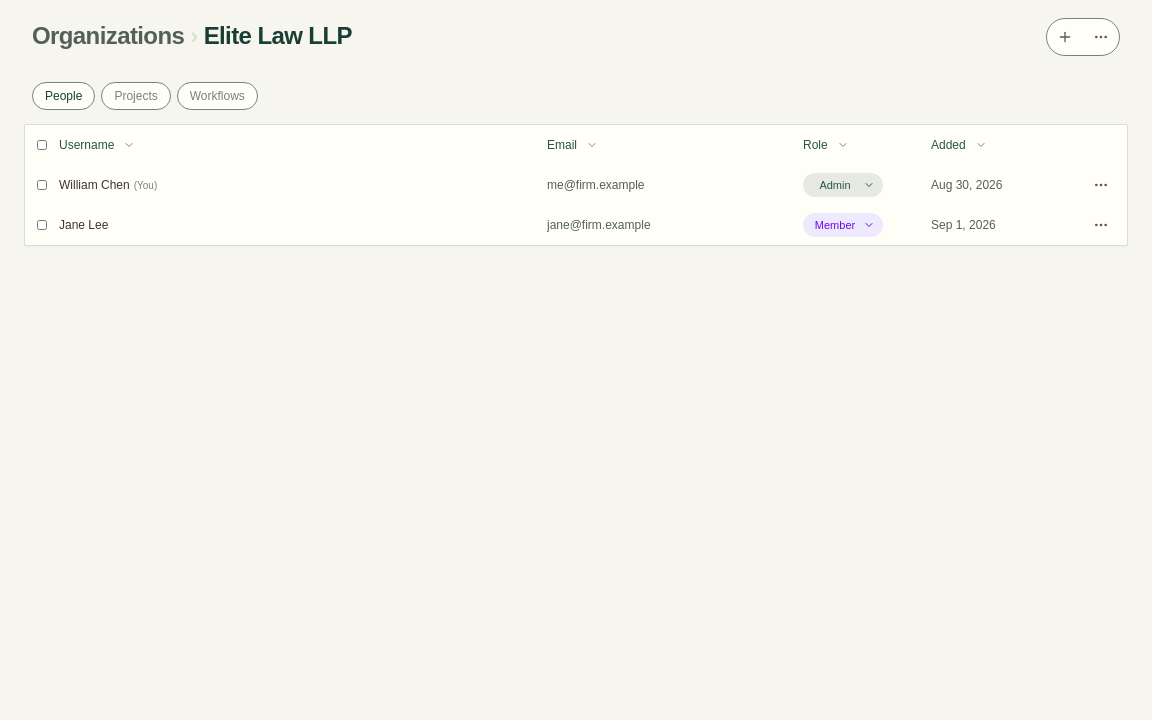
Test: OrganizationWorkspace › reveals a toolbar action and removes selected people
expect the text "Jane Lee" is shown: met, box [59,217,108,233]
expect the button "Actions" is not shown: met
Step 1. Click the checkbox named "Select Jane Lee" → [42, 225], box [37,220,47,230]
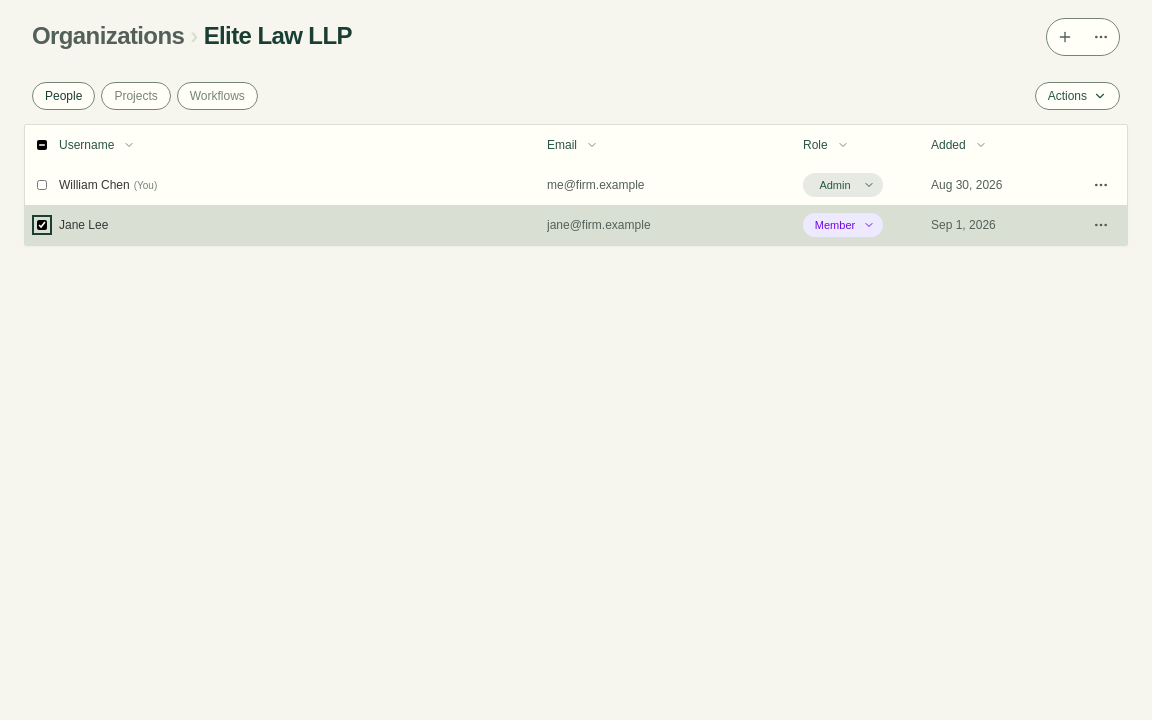
Step 2. Click the button "Actions" → [1077, 96], box [1035,82,1120,110]
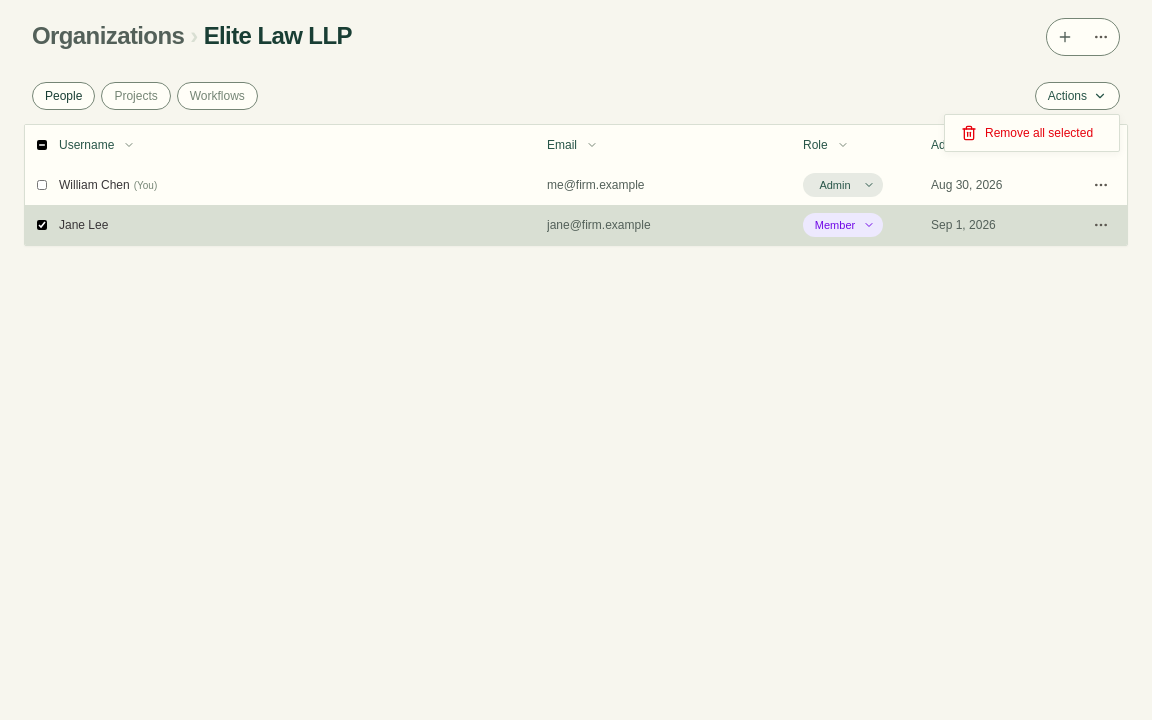
Step 3. Click the menu item "Remove all selected" → [1027, 133], box [961,125,1093,141]
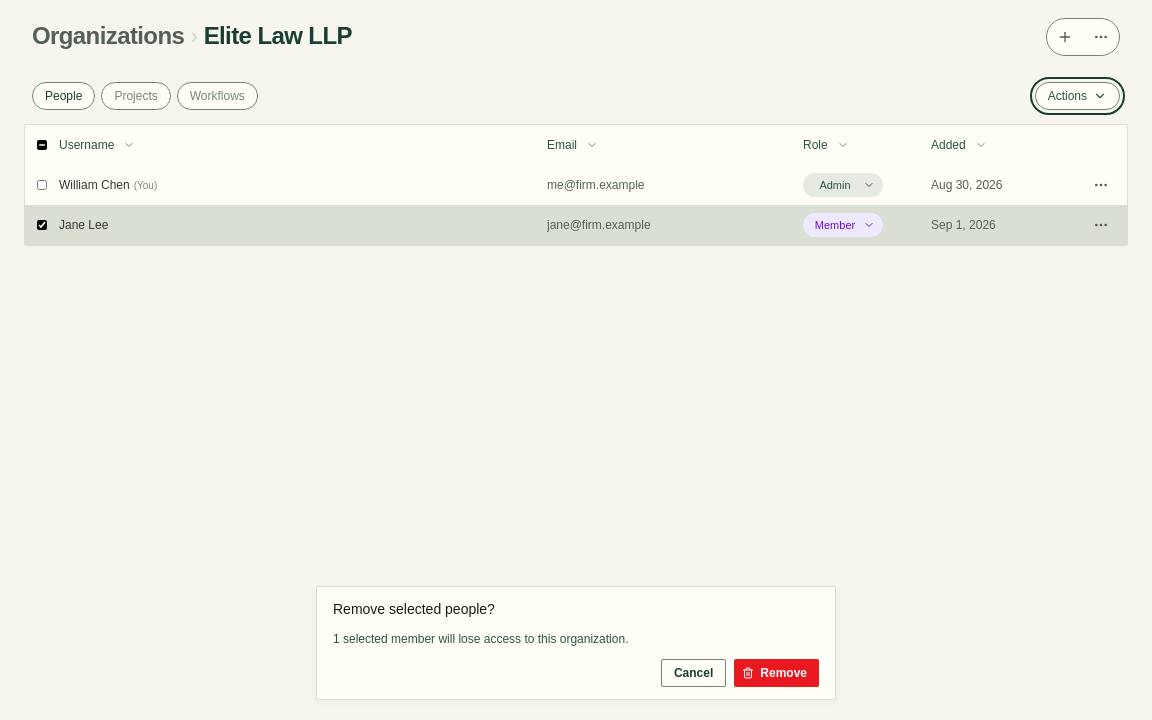
expect the text "Remove selected people?" is shown: met, box [333,601,495,617]
Step 4. Click the 2nd button named "Remove" → [777, 673], box [734,659,819,687]
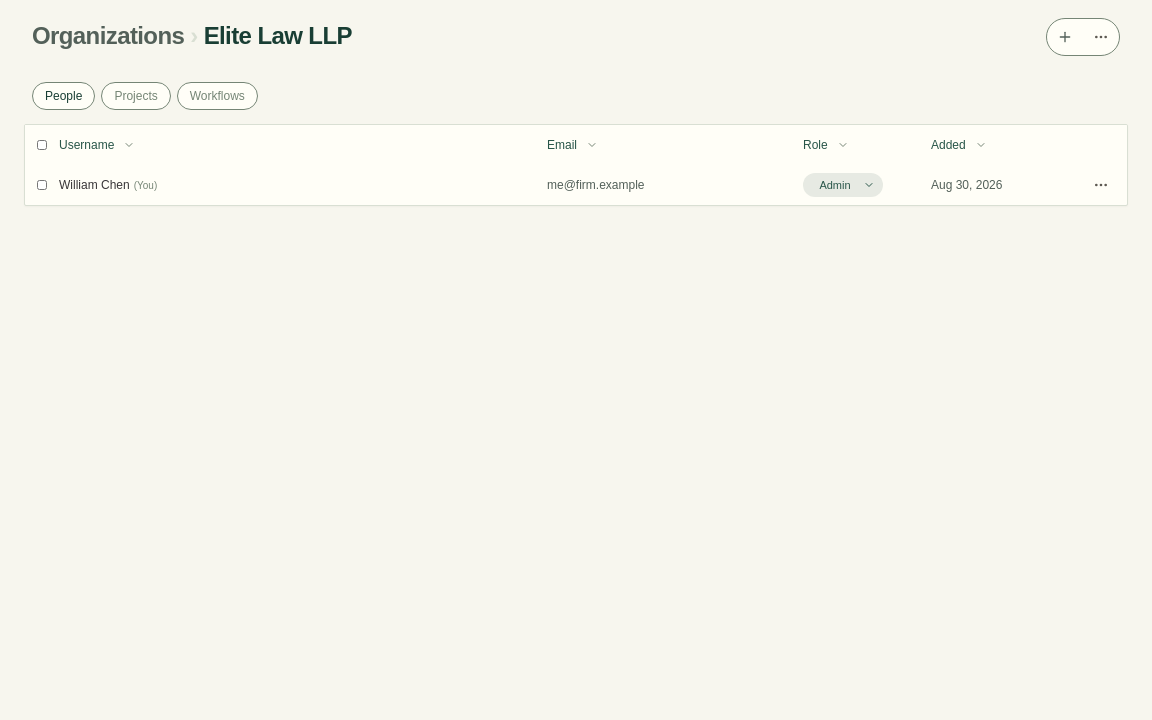
expect the text "Jane Lee" is gone: met
